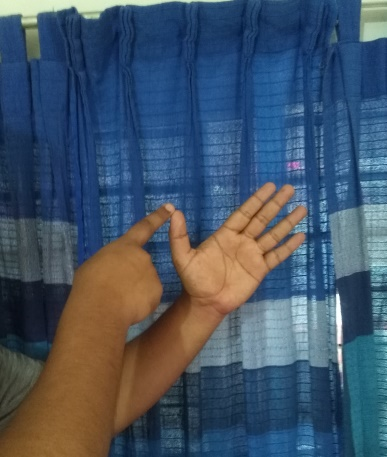a: (112, 183, 312, 317)
